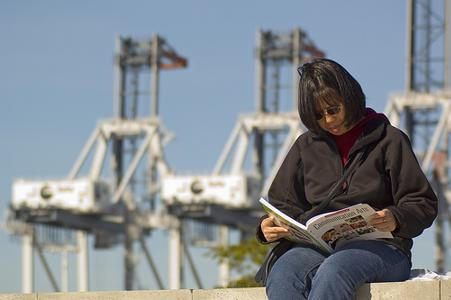person: (258, 59, 443, 300)
